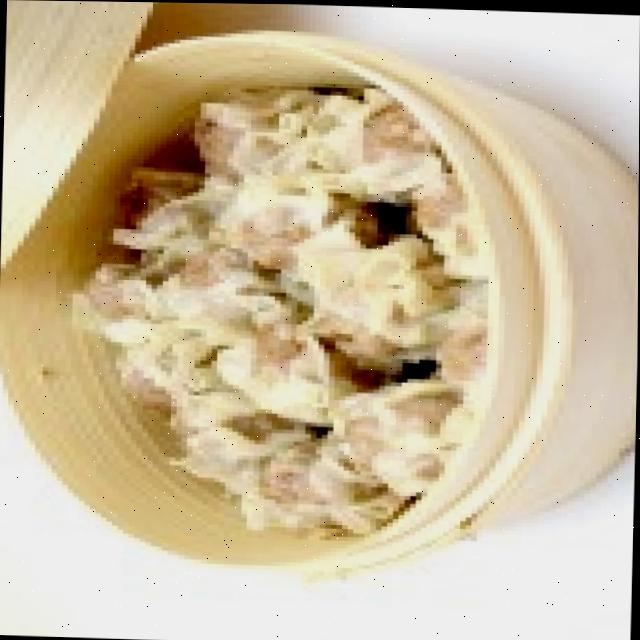带馅早点: (72, 83, 453, 538)
